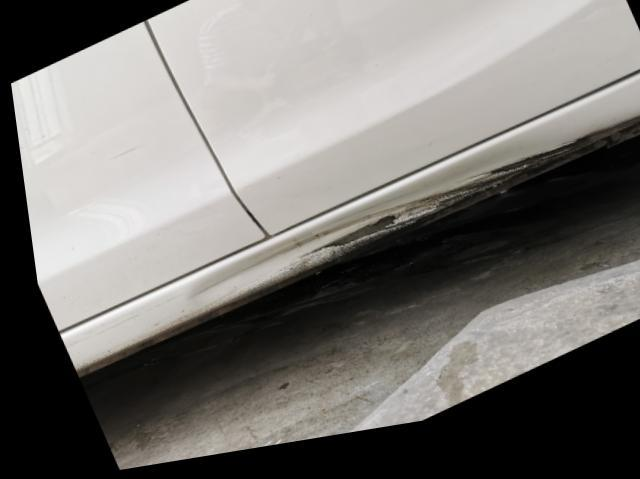scratch: (179, 176, 520, 318)
